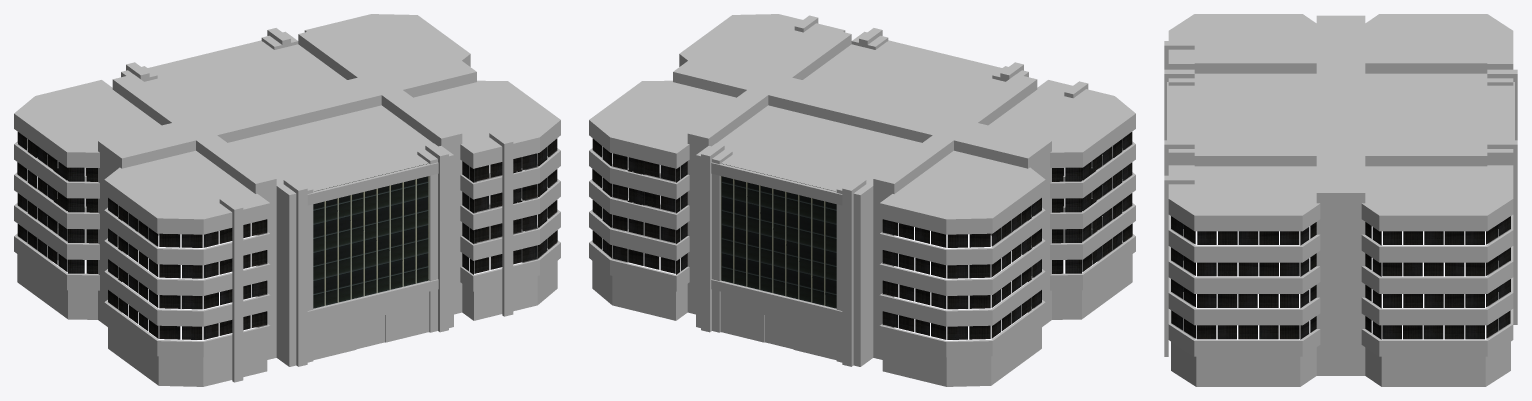
The picture shows the model from 3 angles, left to right: view 1: azimuth 30°, elevation 25°; view 2: azimuth 150°, elevation 25°; view 3: azimuth 270°, elevation 25°; orthographic projection. The views are drawn at different scales.
Parts seen in each view (by area): view 1: BB-072; view 2: BB-072; view 3: BB-072.
Boxes of the visible parts, x1=… form: BB-072: x1=14, y1=14, x2=560, y2=386; BB-072: x1=589, y1=14, x2=1135, y2=386; BB-072: x1=1164, y1=14, x2=1517, y2=386.
Size of what is drawn, in the model's own units: 41.31 by 17.5 by 30.6.
